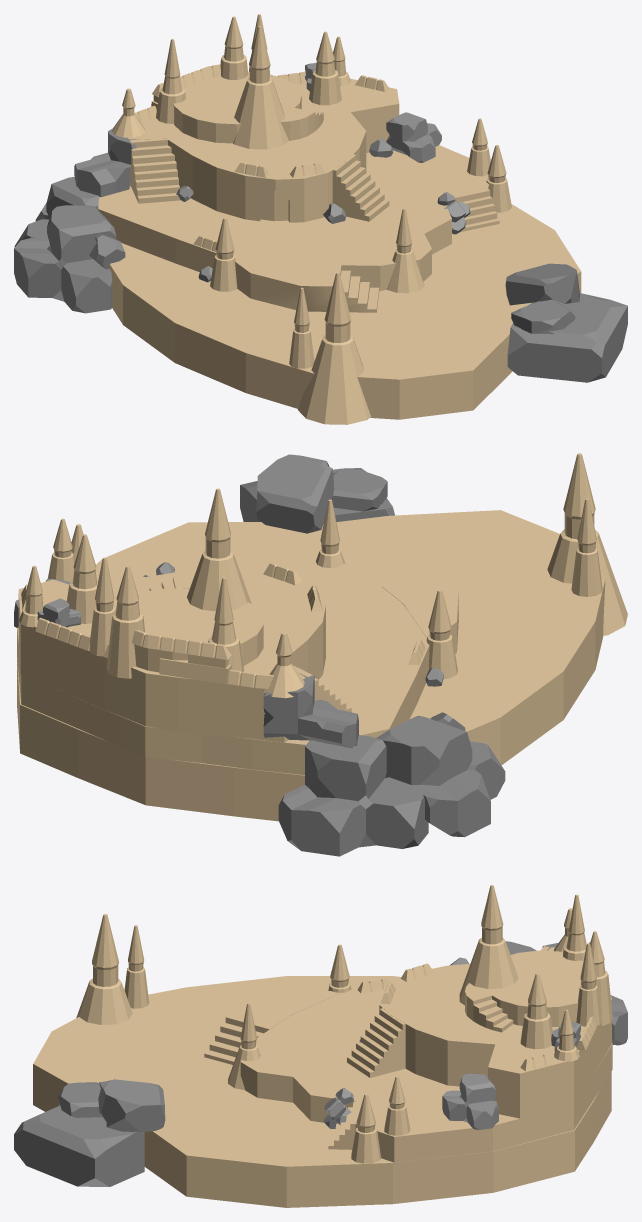
The model's file is SandBurg.fbx.
3 renders of one model, top to bottom at view 1: azimuth 30°, elevation 25°; view 2: azimuth 150°, elevation 25°; view 3: azimuth 270°, elevation 25°, orthographic. The views are drawn at different scales.
Parts seen in each view (by area): view 1: Cylinder, Cylinder.001, Cube.012, Cube.027, turm2.007, Cube.020, Cylinder.002, turm2.001, Cube.021, Cube.028, Cube.008, Cube.017 (+16 smaller); view 2: Cylinder, Cylinder.001, Cube.011, Cube.012, Cylinder.002, Cube.028, Cube.008, turm2.007, turm2.001, turm2.005, Cube.020, Cube.029 (+16 smaller); view 3: Cylinder, Cylinder.001, Cube.027, Cylinder.002, turm2.007, Cube.020, Cube.028, turm2.001, Cube.017, Cube.010, turm2, Cube.022 (+13 smaller).
Part boxes in pixels (x1,y1,x2,y2): Cylinder: (109,204,581,419); Cylinder.001: (98,78,489,290); Cube.012: (14,205,116,313); Cube.027: (507,293,627,382); turm2.007: (297,272,370,424); Cube.020: (235,257,379,312); Cylinder.002: (173,71,301,143); turm2.001: (233,26,288,149); Cube.021: (130,139,180,203); Cube.028: (505,263,579,305); Cube.008: (74,128,137,197); Cube.017: (332,154,389,221); Cylinder: (17,510,605,821); Cylinder.001: (17,555,429,774); Cube.011: (278,735,428,856); Cube.012: (376,716,505,837); Cylinder.002: (113,588,263,672); Cube.028: (256,454,334,533); Cube.008: (263,674,358,748); turm2.007: (547,453,627,635); turm2.001: (187,488,251,611); turm2.005: (107,566,144,678); Cube.020: (382,574,458,653); Cube.029: (331,470,387,511); Cylinder: (33,976,611,1207); Cylinder.001: (240,947,612,1162); Cube.027: (14,1105,144,1186); Cylinder.002: (488,950,583,1026); turm2.007: (76,914,132,1024); Cube.020: (204,991,341,1064); Cube.028: (98,1079,165,1131); turm2.001: (459,885,518,1005); Cube.017: (347,1008,405,1077); Cube.010: (442,1073,498,1130); turm2: (520,973,552,1049); Cube.022: (465,983,513,1032).
Bounding box in the file's own units: 24029 × 11832 × 29354.
